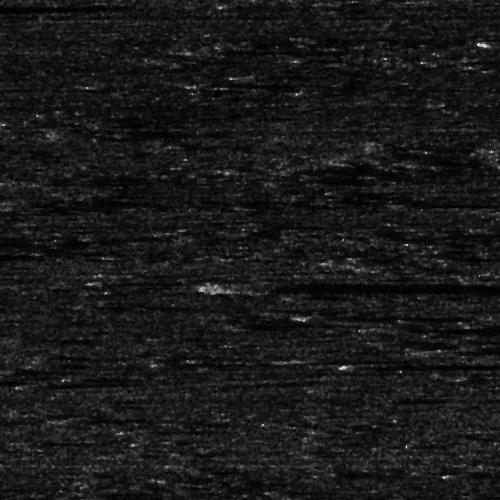object: (275, 310, 348, 319), (167, 48, 240, 53), (220, 279, 251, 290), (465, 37, 500, 44), (15, 380, 56, 383)
shadow: (236, 279, 500, 290), (312, 310, 454, 319), (0, 0, 74, 17), (0, 0, 116, 10), (204, 48, 301, 53), (36, 380, 120, 383)
